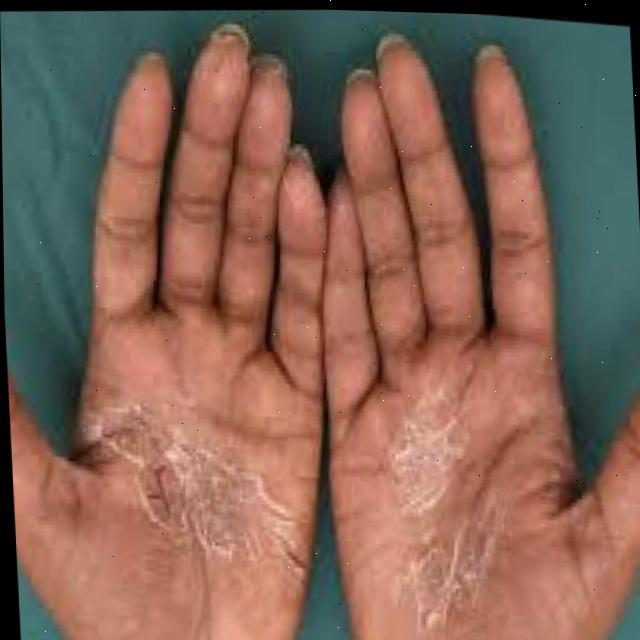Eczema: (398, 368, 510, 586), (104, 416, 262, 548)
